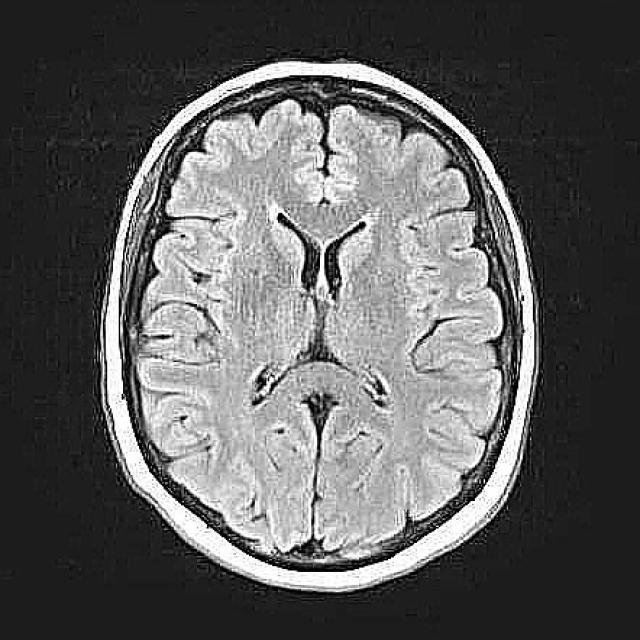notumor: (98, 64, 540, 595)
